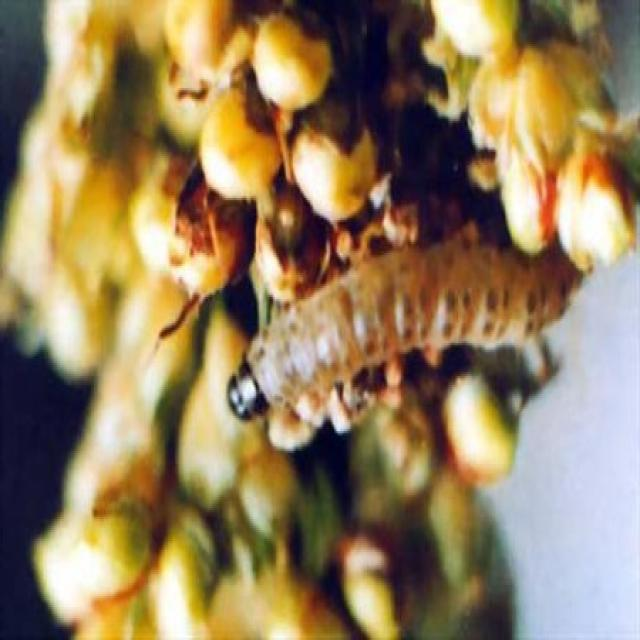peach borer: (218, 262, 589, 422)
